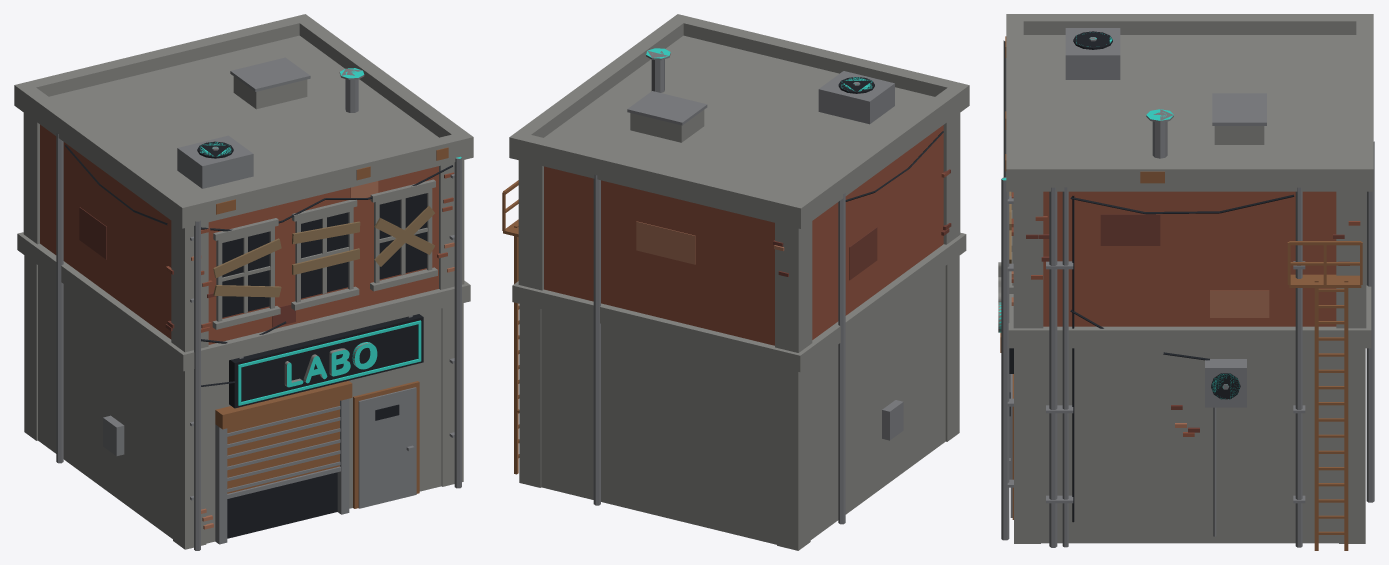
File: labo_batiment.glb
3 views of the same model, side by side, from view 1: azimuth 30°, elevation 25°; view 2: azimuth 150°, elevation 25°; view 3: azimuth 270°, elevation 25° (orthographic). The views are drawn at different scales.
Parts seen in each view (by area): view 1: labo_batiment; view 2: labo_batiment; view 3: labo_batiment.
Boxes of the visible parts, box(x1,y1,x2,y2) form: labo_batiment: box(14, 14, 473, 550); labo_batiment: box(502, 14, 969, 550); labo_batiment: box(998, 14, 1374, 550).
Size of the model in its own units: 7.71 by 9 by 7.58.
